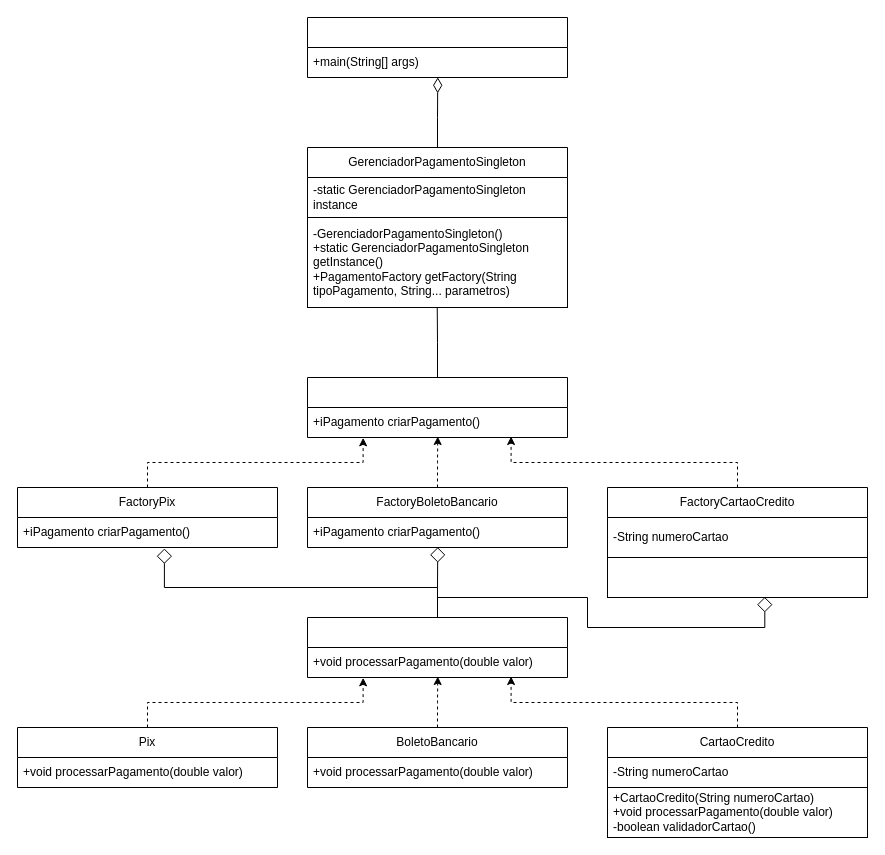
Some shapes in this 885 by 855 pixel diagram are drawn without their labels. The shapes that lost their labels are listed below. From the top down, each one's box as (x1, y1, x2, y2) in pixels, then its label:
(306, 16, 568, 78): ConsumidorPagamento
(306, 376, 568, 438): <<interface>> PagamentoFactory
(606, 556, 868, 598): +FactoryCartaoCredito(String numeroCartao) +iPagamento criarPagamento()
(306, 616, 568, 678): <<interface>> iPagamento
